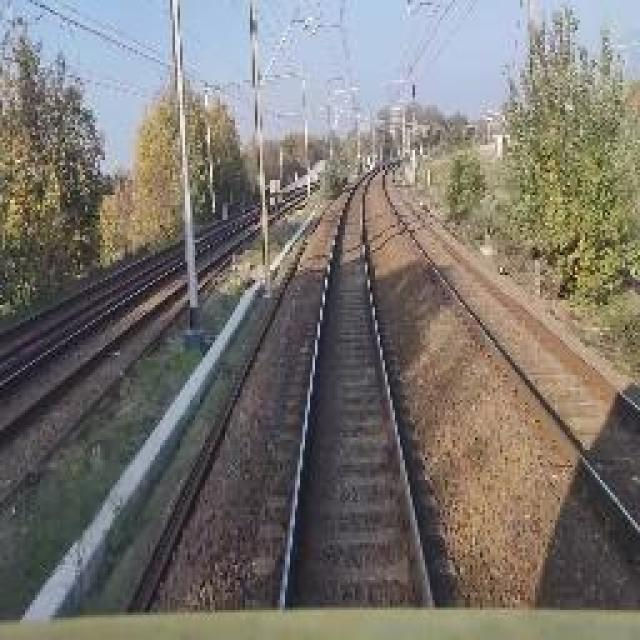rail: (250, 162, 476, 612)
